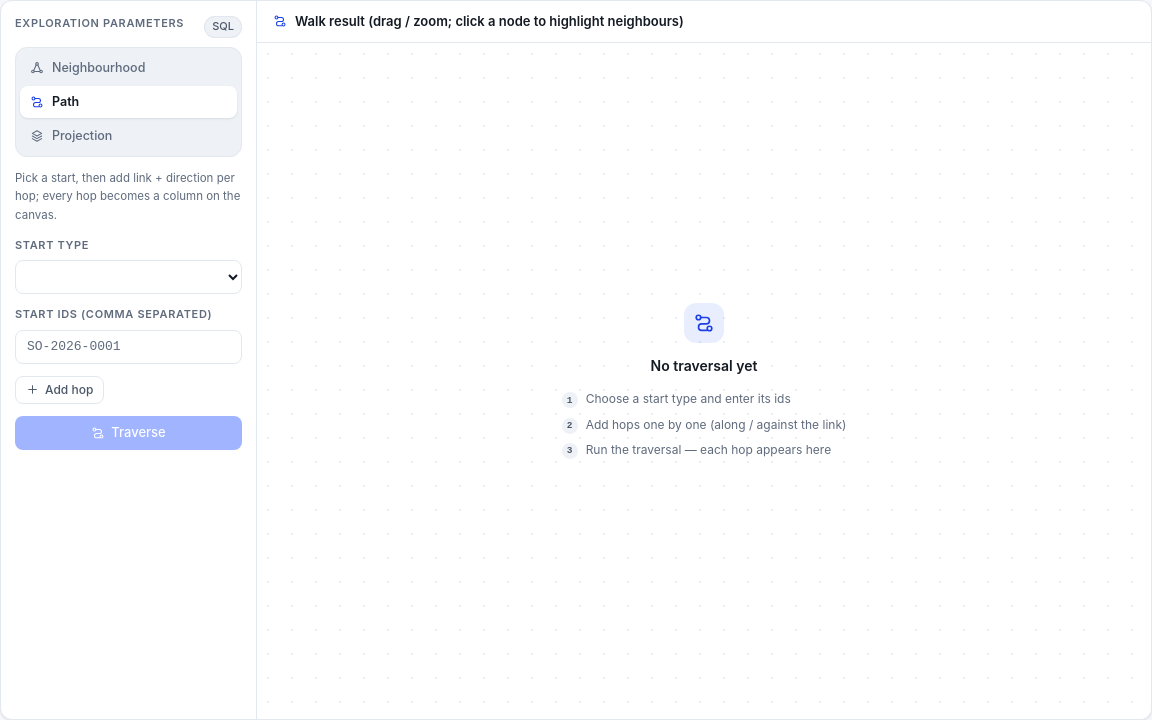
Test: GraphExplorer — explore mode › a deep-linked path tab does not spend an explore request
The image size is (1152, 720).
Expected: the tab with test id "tab-path" is shown, [20,86,237,118]
Type "EQ-01" into the field labelled "Start ids (comma separated)". click: (128, 347)
box: [15,330,242,364]
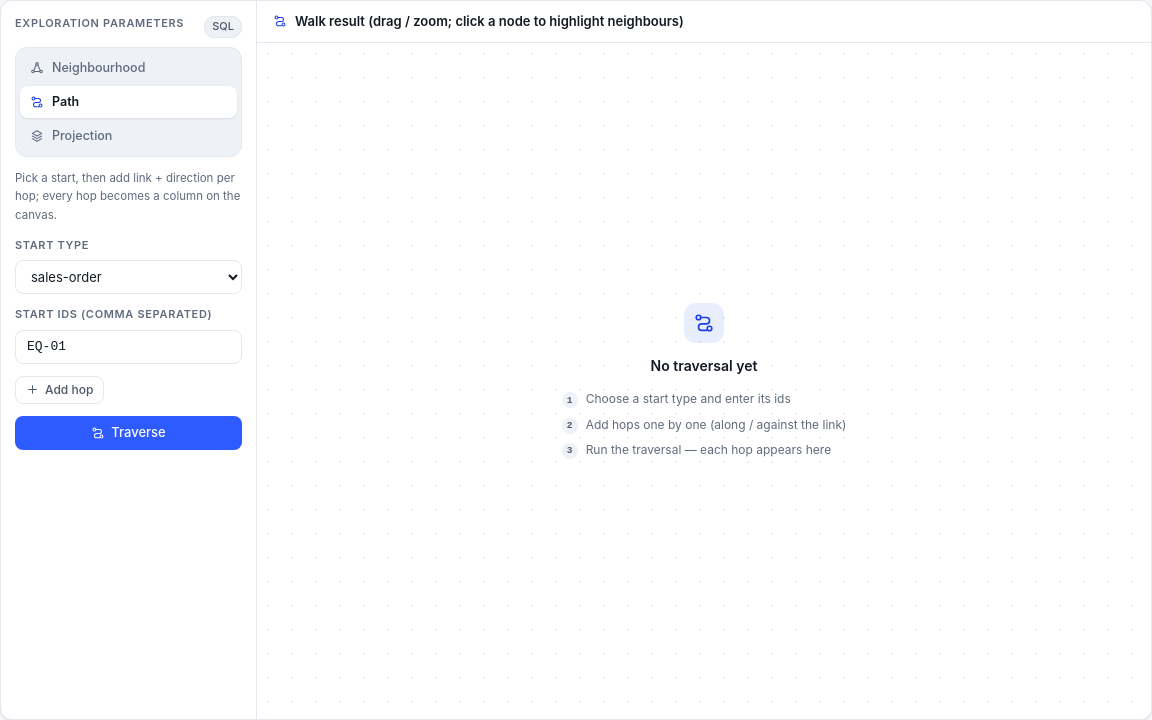
Click the button with test id "run-traverse". click: (128, 433)
box: [15,416,242,450]
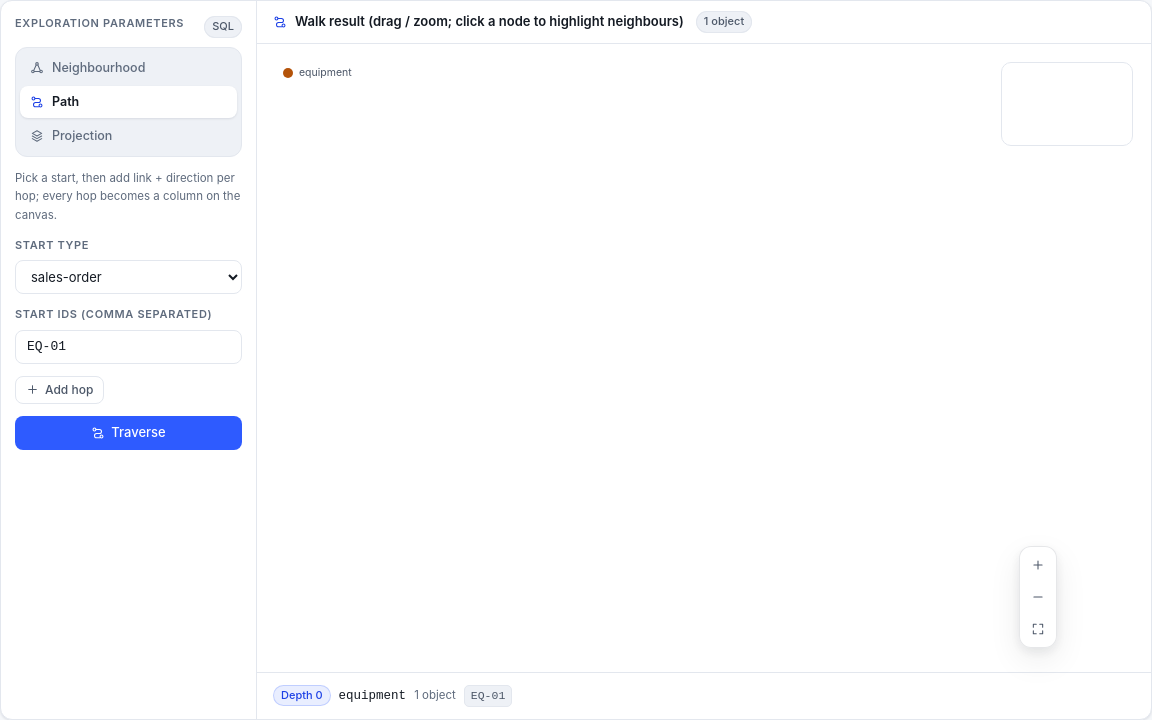
Now the element with test id "traverse-result" is shown
